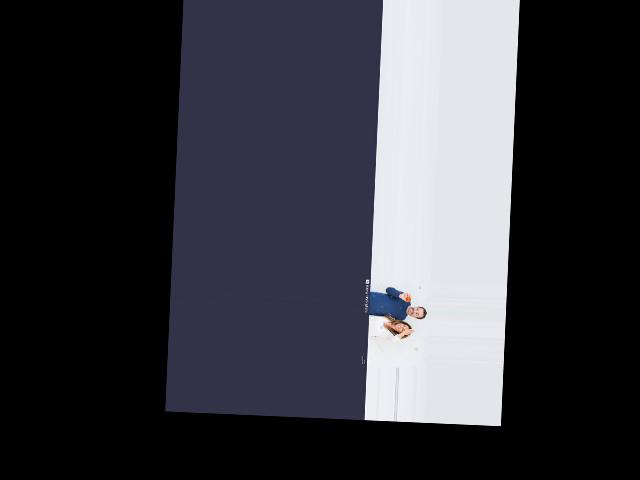tomato: (406, 297, 411, 302)
